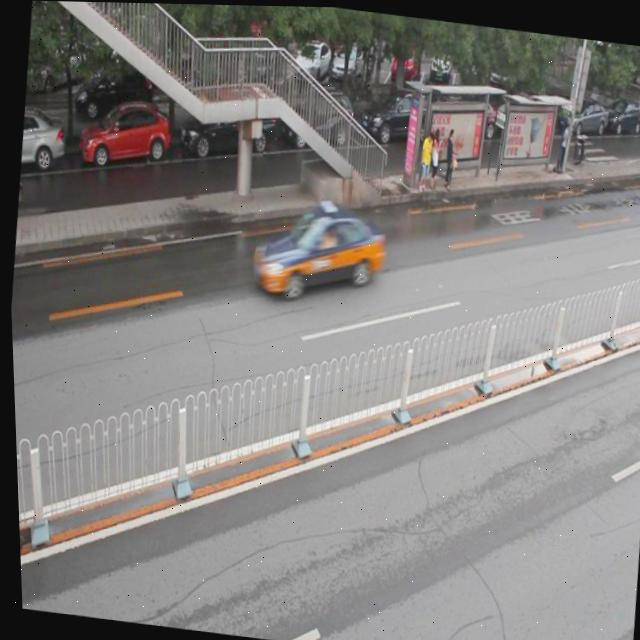car: (246, 194, 386, 304), (176, 82, 279, 160), (75, 96, 172, 175), (355, 81, 437, 151), (279, 86, 354, 155), (17, 109, 66, 176)
